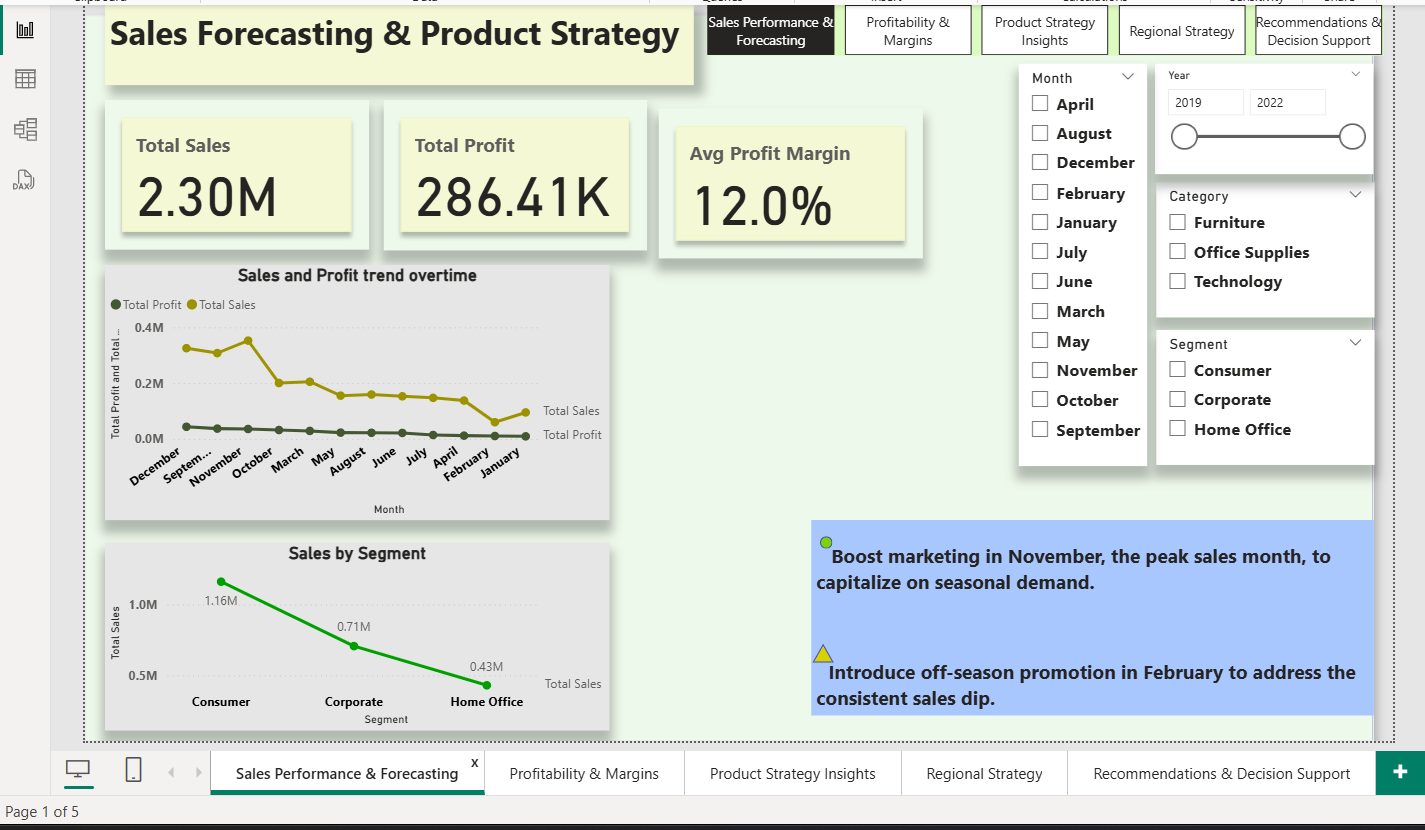

The page's visual inventory and layout, read from the dashboard file:
{"tool":"powerbi","page":{"name":"Sales Performance & Forecasting","canvas":[1280,720],"ordinal":0},"visuals":[{"type":"shape","box":[0,9.8,1260.7,710.5],"z":0},{"type":"group","id":"g1","title":"Group 1","box":[710,503.8,550,191.2],"z":0,"group":"g2"},{"type":"textbox","box":[710,503.8,550,191.2],"z":0,"group":"g1"},{"type":"textbox","box":[19.6,0,576,78.3],"z":1000},{"type":"shape","box":[719,519.8,12.2,12.2],"z":1000,"group":"g1"},{"type":"shape","box":[711.7,624.9,20.8,18.3],"z":1000,"group":"g2"},{"type":"cardVisual","fields":{"Data":["Superstore-Cleaned_Data.Total Sales"]},"box":[20,92.5,258.8,146.2],"z":2000},{"type":"cardVisual","fields":{"Data":["Superstore-Cleaned_Data.Total Profit"]},"box":[292.3,93.3,258,146.8],"z":3000},{"type":"cardVisual","fields":{"Data":["Superstore-Cleaned_Data.Avg Profit Margin"]},"box":[561.2,101.2,258.8,146.2],"z":4000},{"type":"lineChart","title":"Sales and Profit trend overtime","fields":{"Y":["Superstore-Cleaned_Data.Total Profit","Superstore-Cleaned_Data.Total Sales"],"Category":["Superstore-Cleaned_Data.Month"]},"box":[19.2,253.9,494,249.7],"z":5000},{"type":"pageNavigator","box":[609.3,0,661.4,49.4],"z":6000},{"type":"slicer","fields":{"Values":["Superstore-Cleaned_Data.Category"]},"box":[1048,173.6,214,132.1],"z":7000},{"type":"slicer","fields":{"Values":["Superstore-Cleaned_Data.Year"]},"box":[1046.7,57.5,214,107.6],"z":8000},{"type":"slicer","fields":{"Values":["Superstore-Cleaned_Data.Segment"]},"box":[1048,317.9,214,132.1],"z":9000},{"type":"slicer","fields":{"Values":["Superstore-Cleaned_Data.Month"]},"box":[913.5,57.5,126,393.8],"z":10000},{"type":"lineChart","title":"Sales by Segment","fields":{"Y":["Superstore-Cleaned_Data.Total Sales"],"Category":["Superstore-Cleaned_Data.Segment"]},"box":[19.2,525.6,494,183.9],"z":11000},{"type":"shape","box":[710.5,629.8,20.8,13.5],"z":12000},{"type":"group","id":"g2","title":"Group 2","box":[710,503.8,550,191.2],"z":13000}]}

Visuals, with their boxes on the page's 1280x720 design canvas (x1, y1, x2, y2). These are canvas units, not pixel positions in the 1425x830 screenshot, which may show the page scaled, cropped or inside an application window:
shape: [x1=0, y1=10, x2=1261, y2=720]
"Group 1" group: [x1=710, y1=504, x2=1260, y2=695]
textbox: [x1=710, y1=504, x2=1260, y2=695]
textbox: [x1=20, y1=0, x2=596, y2=78]
shape: [x1=719, y1=520, x2=731, y2=532]
shape: [x1=712, y1=625, x2=732, y2=643]
cardVisual - Superstore-Cleaned_Data.Total Sales: [x1=20, y1=92, x2=279, y2=239]
cardVisual - Superstore-Cleaned_Data.Total Profit: [x1=292, y1=93, x2=550, y2=240]
cardVisual - Superstore-Cleaned_Data.Avg Profit Margin: [x1=561, y1=101, x2=820, y2=247]
"Sales and Profit trend overtime" lineChart: [x1=19, y1=254, x2=513, y2=504]
pageNavigator: [x1=609, y1=0, x2=1271, y2=49]
slicer - Superstore-Cleaned_Data.Category: [x1=1048, y1=174, x2=1262, y2=306]
slicer - Superstore-Cleaned_Data.Year: [x1=1047, y1=58, x2=1261, y2=165]
slicer - Superstore-Cleaned_Data.Segment: [x1=1048, y1=318, x2=1262, y2=450]
slicer - Superstore-Cleaned_Data.Month: [x1=914, y1=58, x2=1040, y2=451]
"Sales by Segment" lineChart: [x1=19, y1=526, x2=513, y2=710]
shape: [x1=710, y1=630, x2=731, y2=643]
"Group 2" group: [x1=710, y1=504, x2=1260, y2=695]
